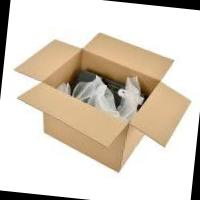cardboard: (1, 14, 200, 181)
